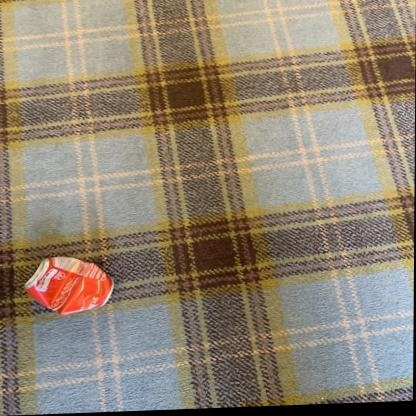trash: (25, 257, 112, 314)
